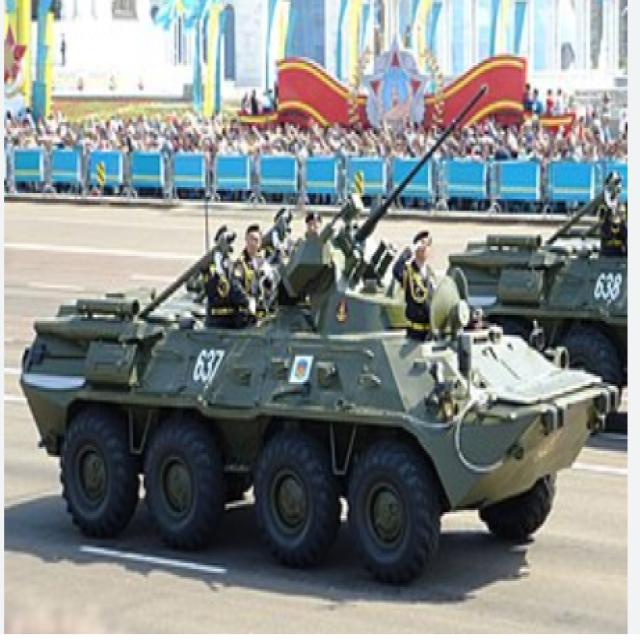MIL_APC: (35, 204, 620, 580)
